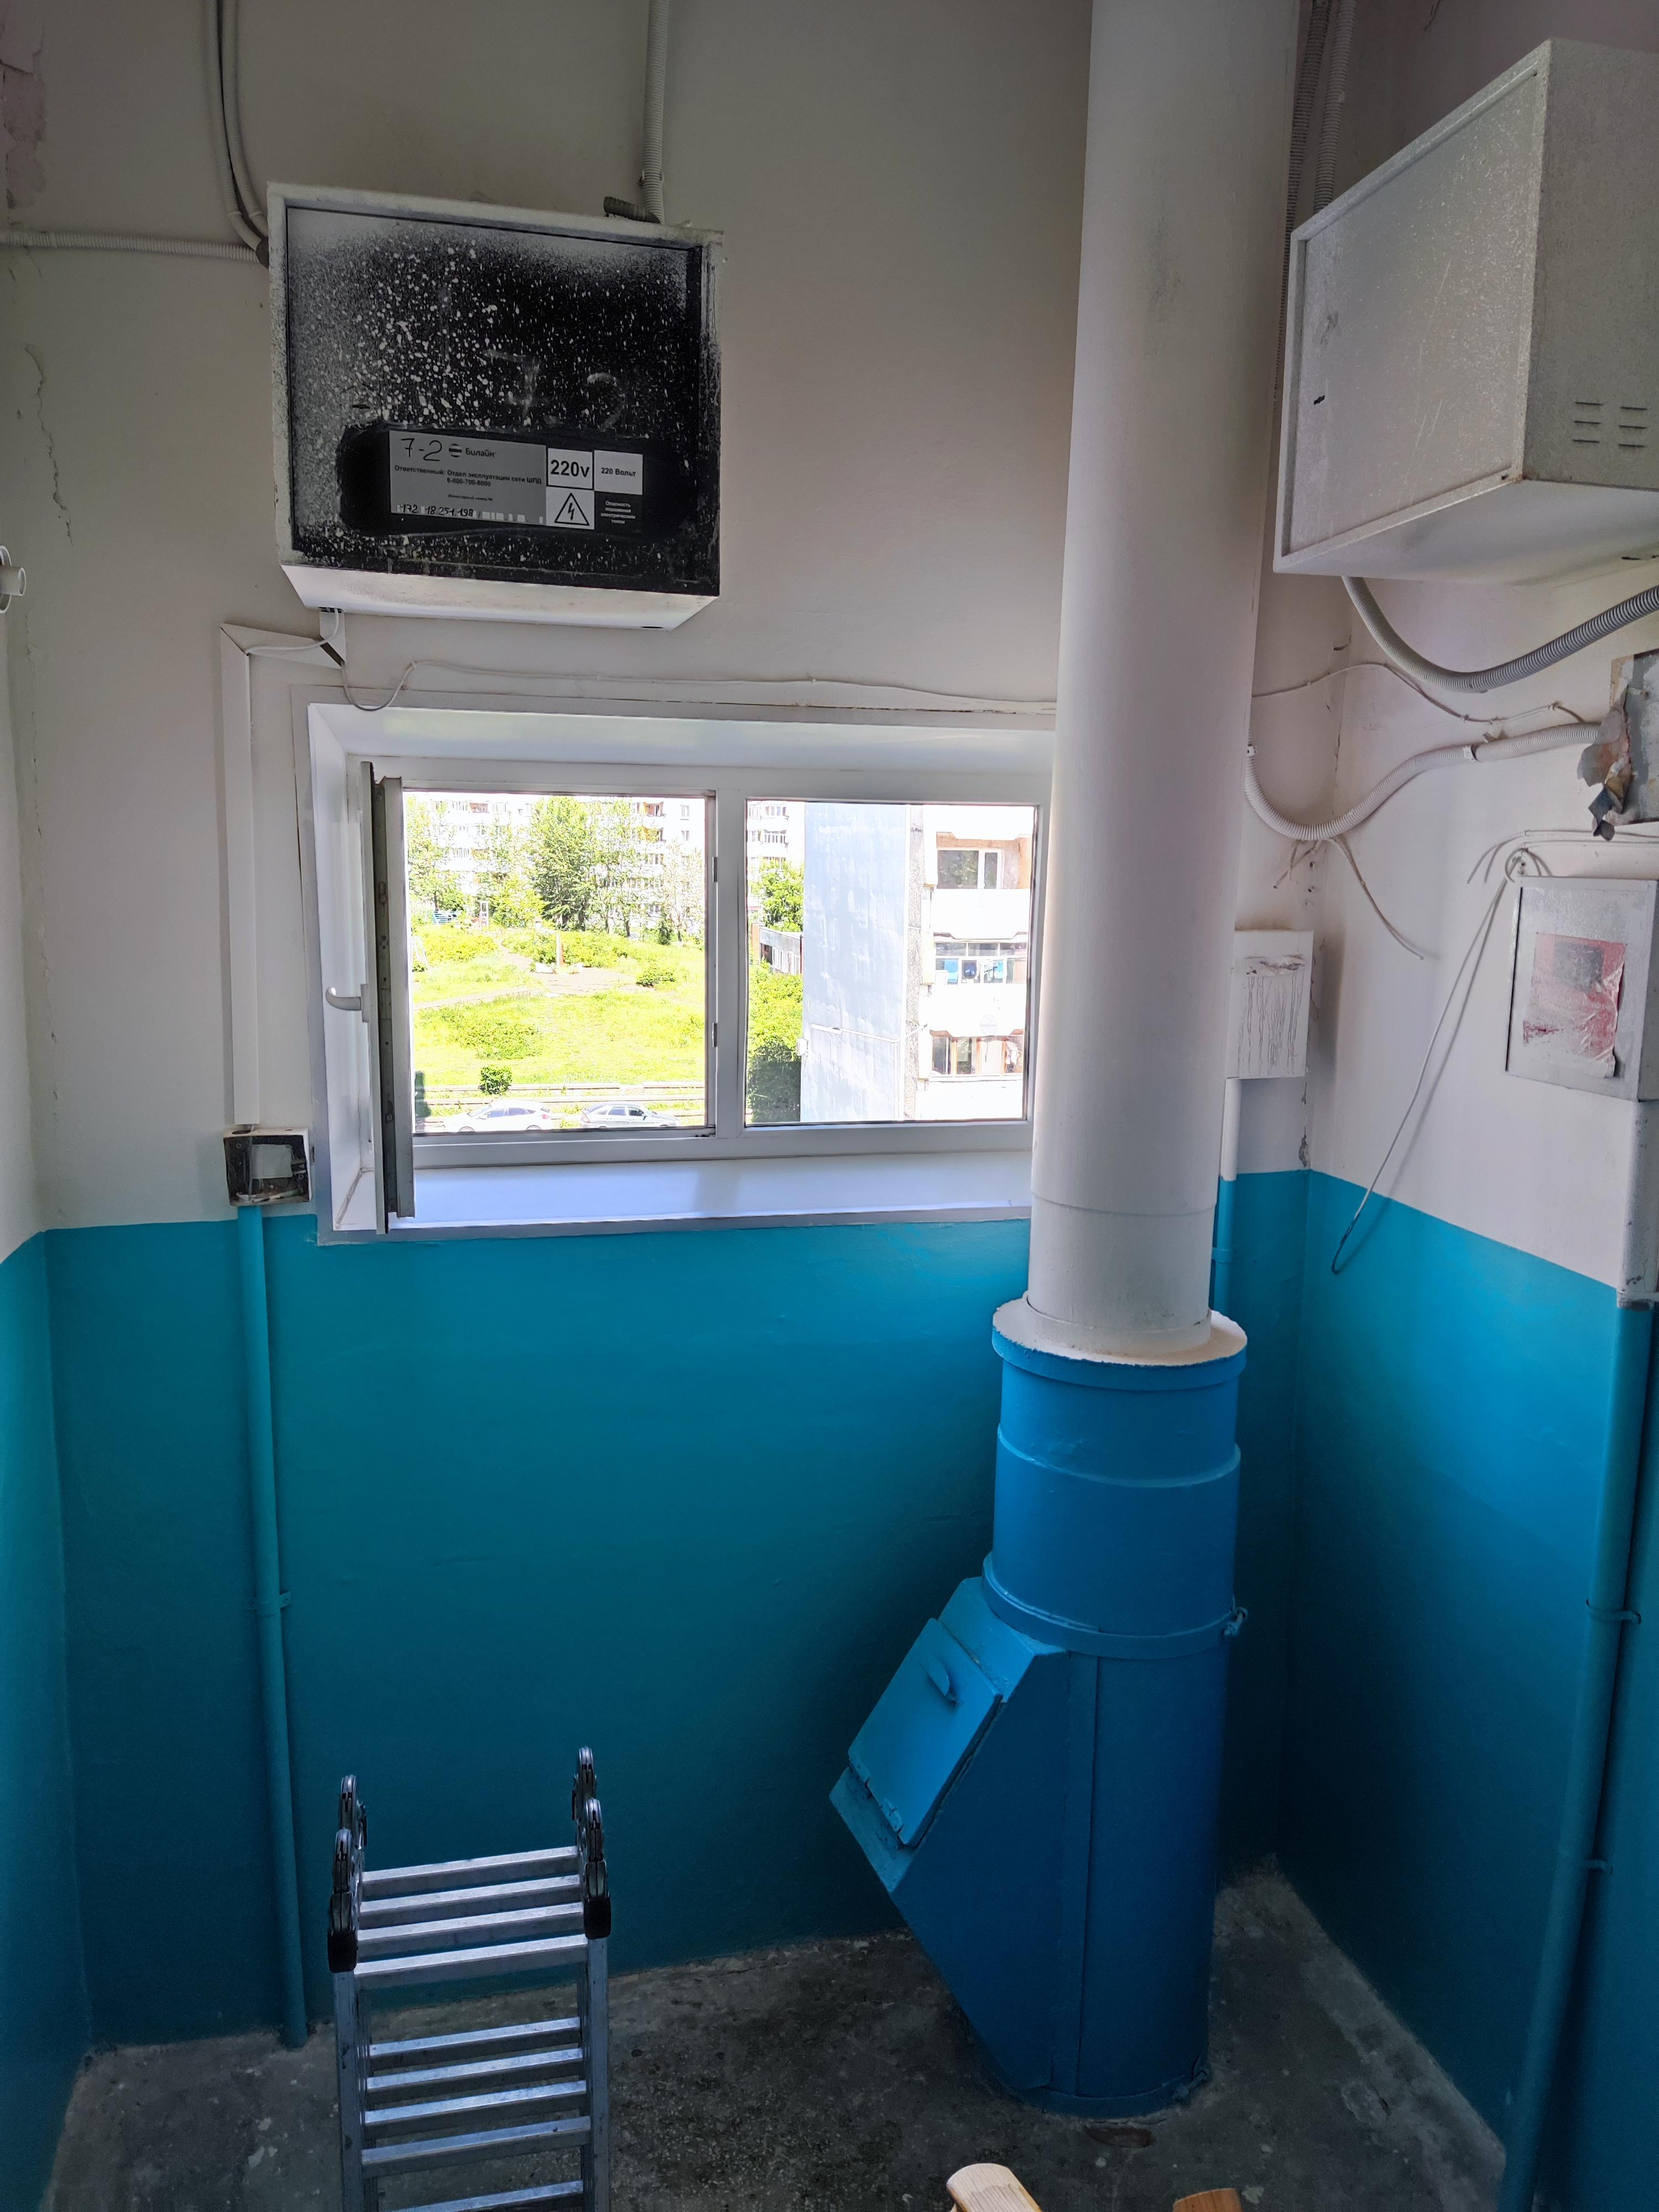shta-9m: (258, 174, 742, 643)
